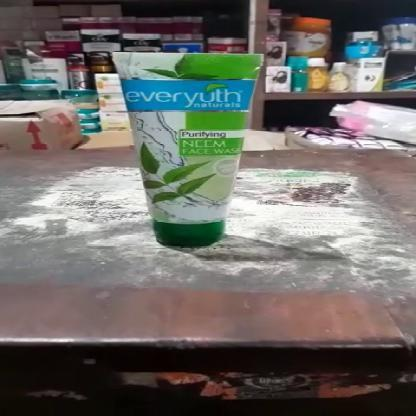EY NATURALS NEEM FACE WASH AY 50G: (112, 51, 261, 247)
